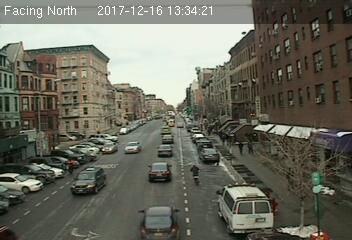bicycle: (190, 165, 202, 187)
car: (137, 205, 180, 238), (71, 165, 107, 196), (148, 162, 171, 179), (198, 148, 221, 161), (156, 144, 173, 157), (123, 142, 141, 154), (101, 143, 118, 153), (160, 133, 175, 143)
police: (215, 182, 274, 235)
